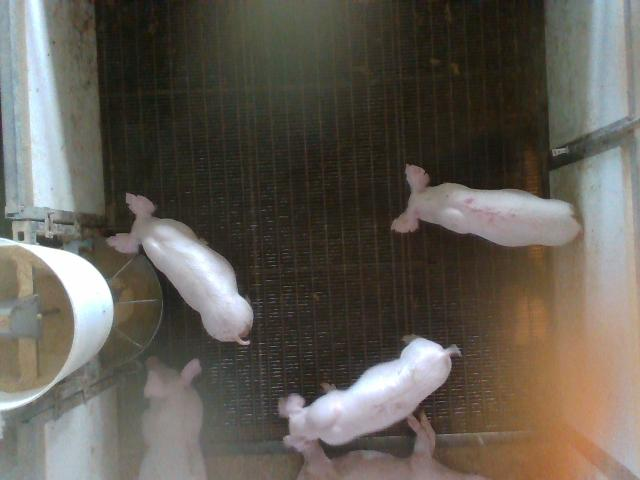pig-5: (392, 166, 581, 246)
